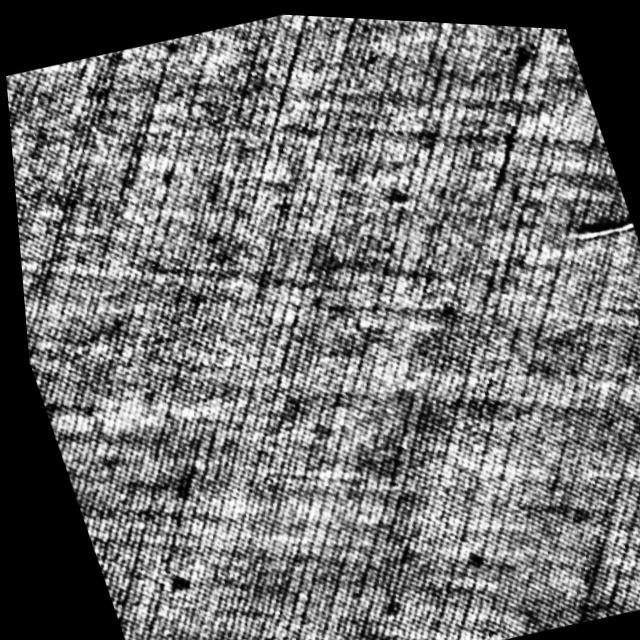Stitch: (550, 197, 634, 249)
